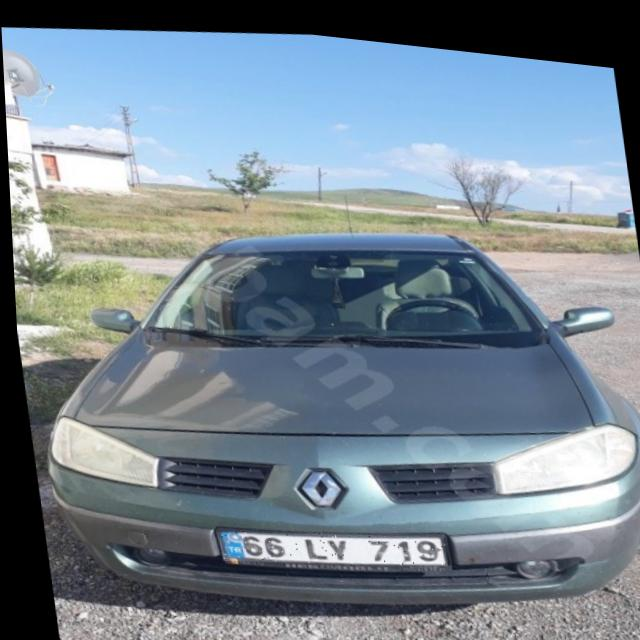license_plate: (212, 507, 443, 576)
